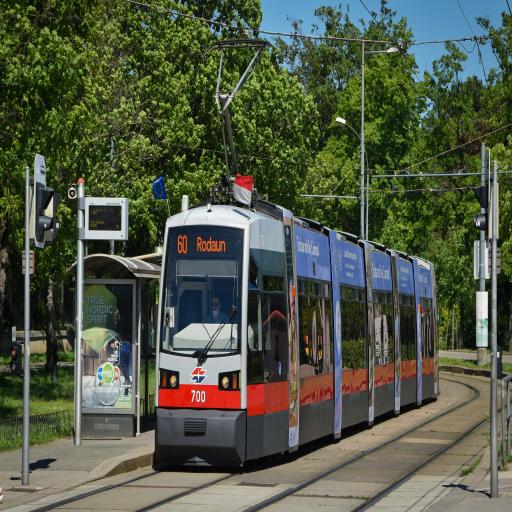ULF: (152, 209, 440, 467)
